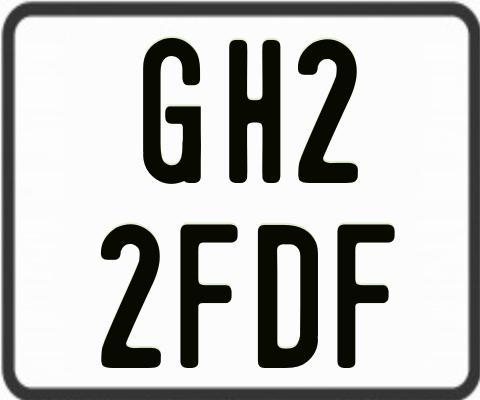2: (99, 221, 165, 367), (298, 37, 358, 182)
D: (256, 222, 317, 366)
F: (180, 222, 242, 366), (335, 221, 394, 365)
G: (143, 35, 205, 185)
H: (229, 39, 283, 187)
